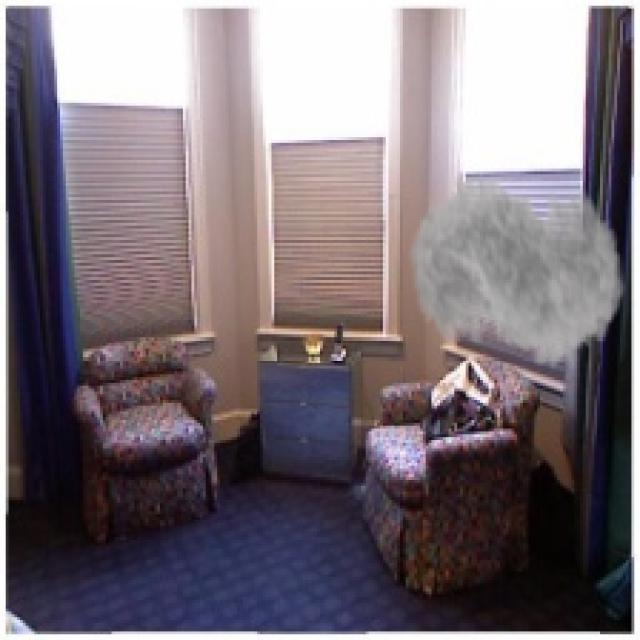Smoke: (408, 148, 626, 386)
